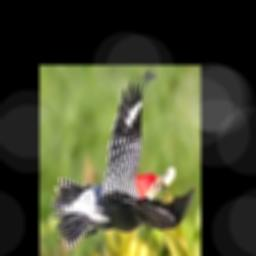Woodpecker: (50, 70, 195, 248)
